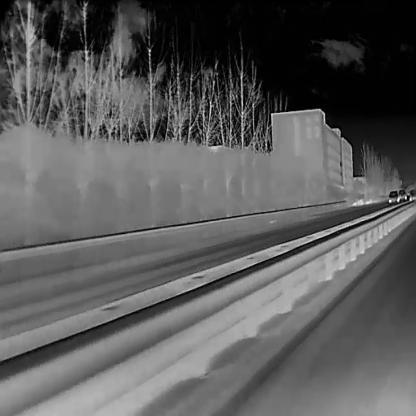car: (387, 190, 399, 203), (397, 188, 406, 200), (408, 189, 415, 201)
